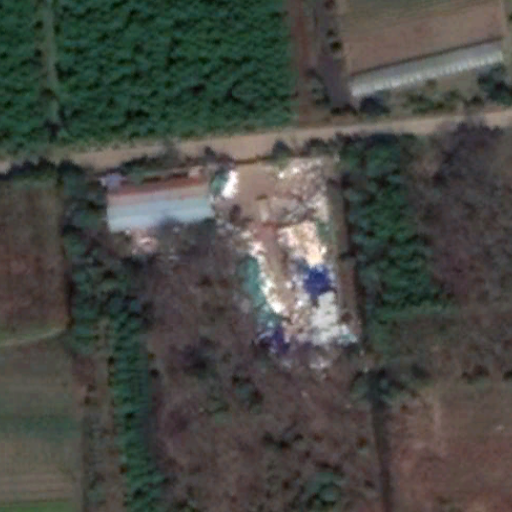msw: (210, 158, 356, 347)
